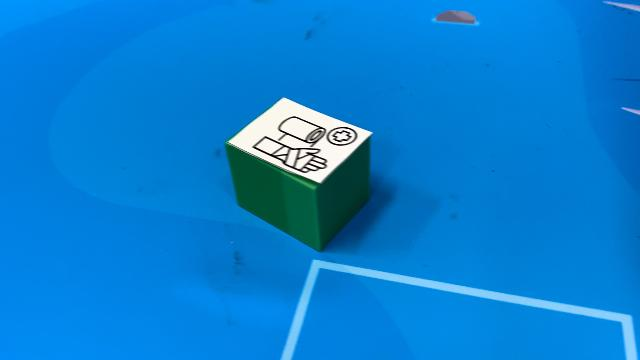bandage: (224, 96, 374, 252)
